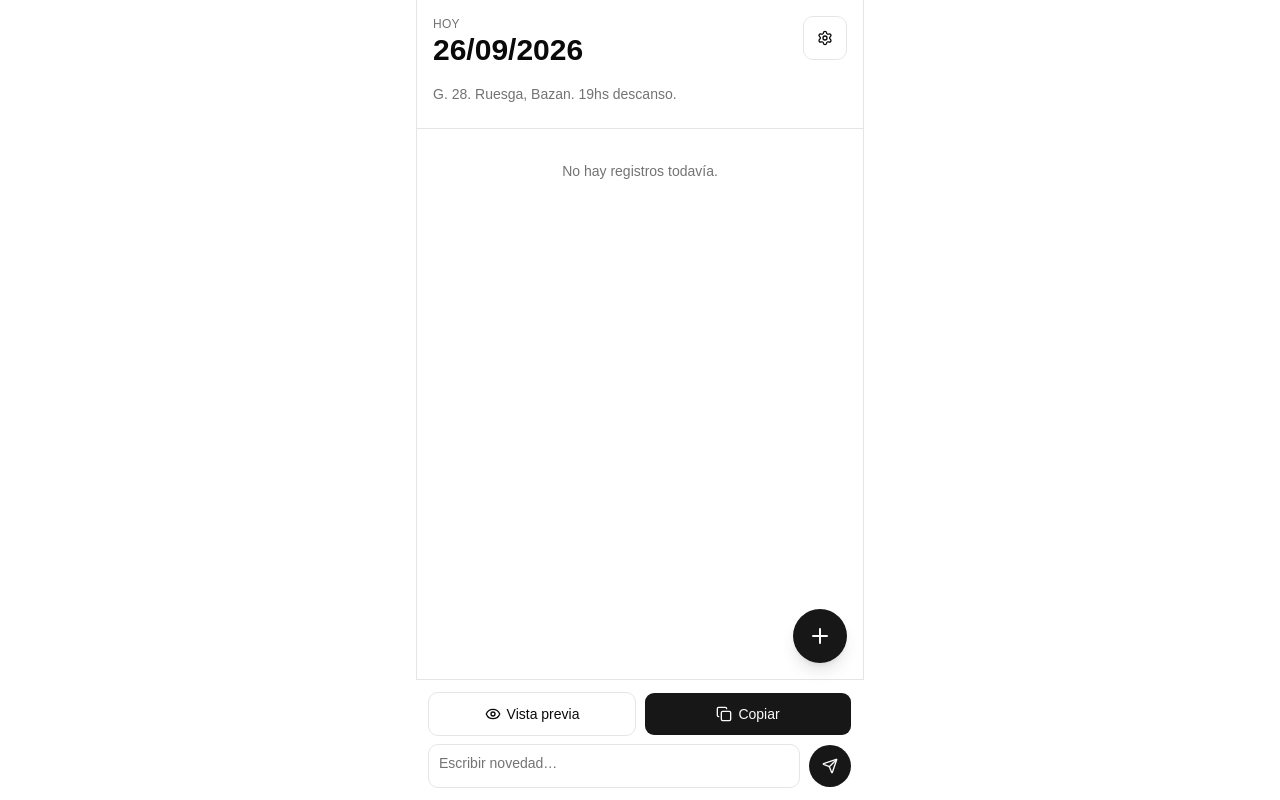
Test: App — Today screen › FAB -> LP -> fill fields -> Agregar shows the numbered row and updates the counters
The image size is (1280, 800).
Expected: the heading "26/09/2026" is shown, x1=433 y1=32 x2=583 y2=68
Click the button named "nuevo registro" at x=820, y=636, box x1=792 y1=608 x2=848 y2=664
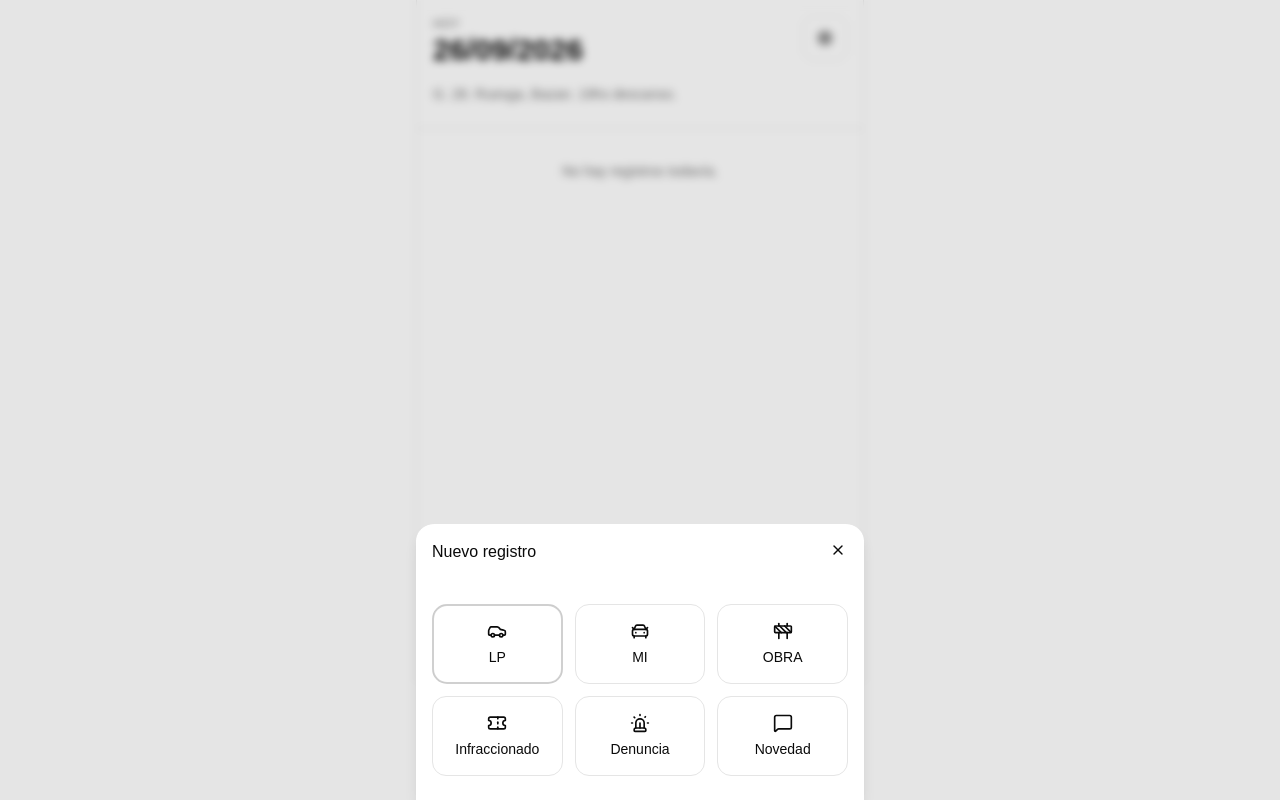
Click the button "LP" at x=497, y=644, box x1=432 y1=604 x2=563 y2=684
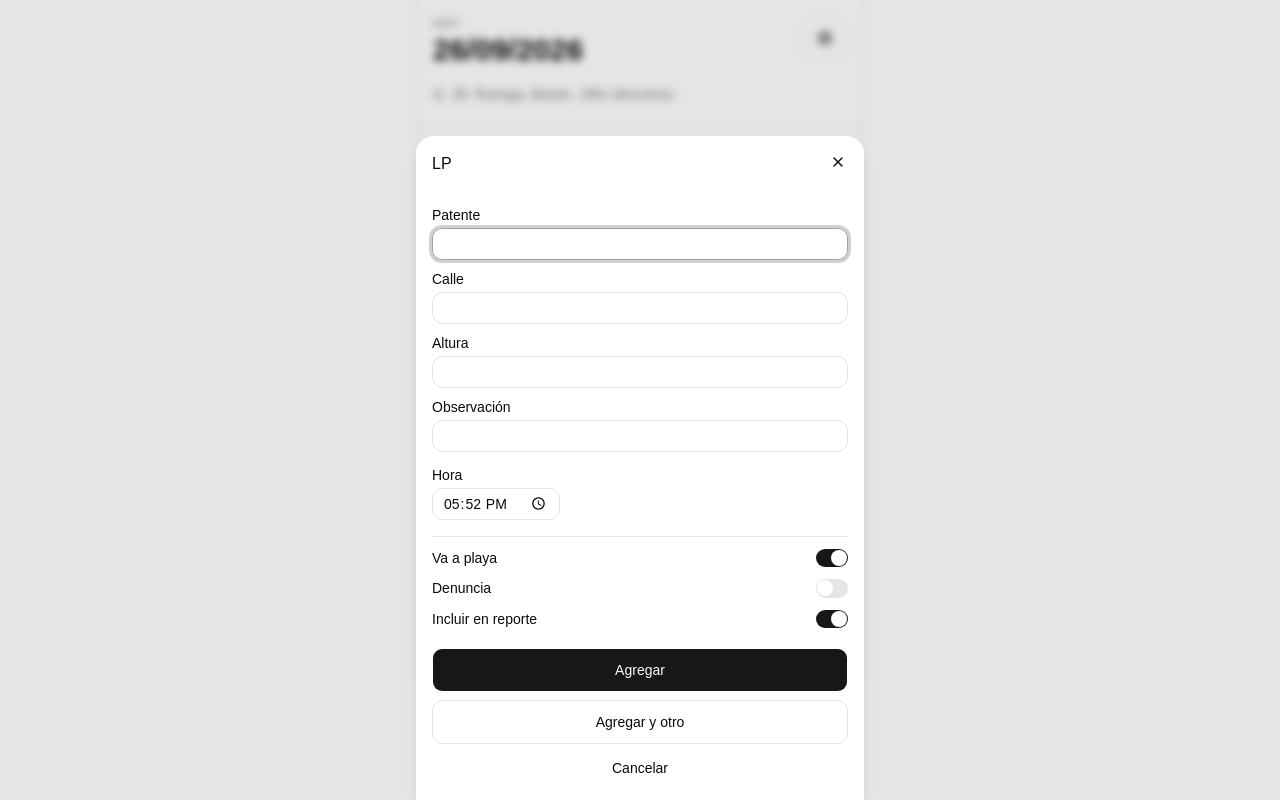
Type "ohm949" into the field labelled "Patente" at x=640, y=244, box x1=432 y1=228 x2=848 y2=260
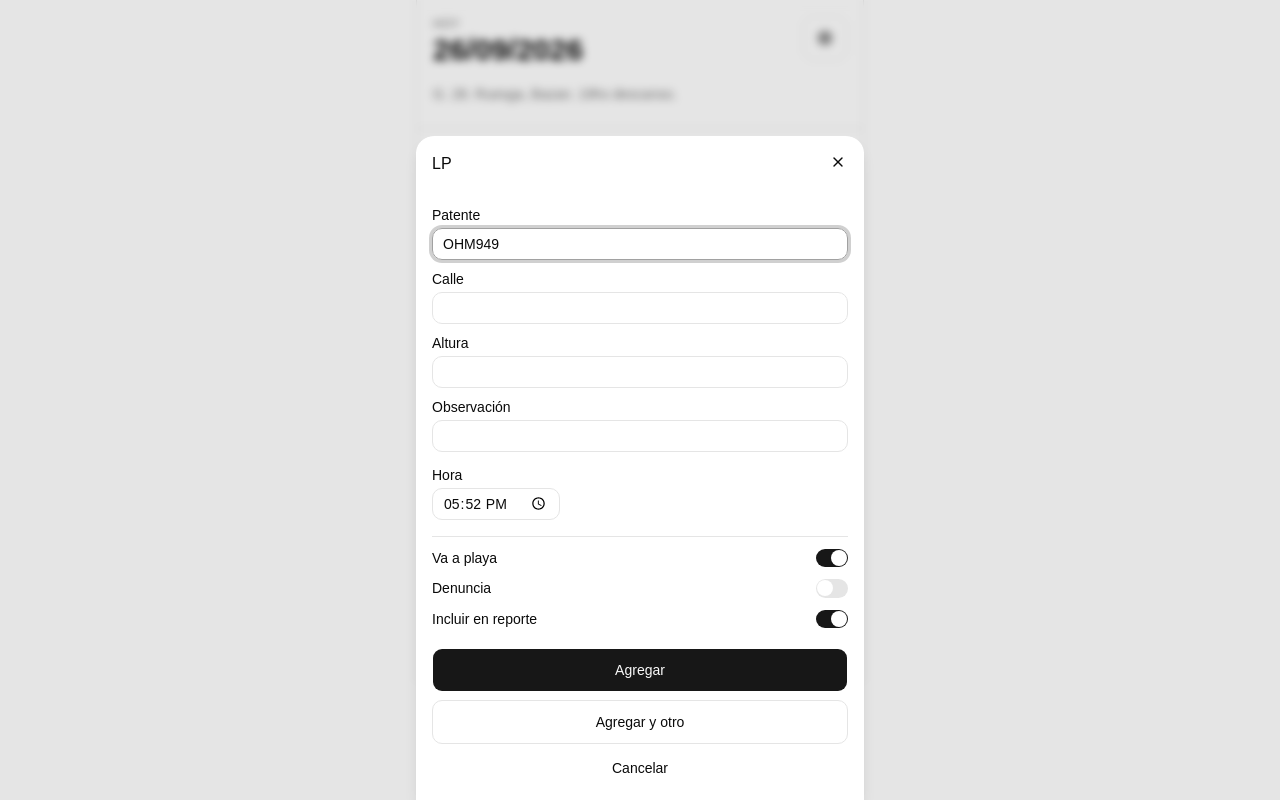
Type "Av Luis María Campos" into the field labelled "Calle" at x=640, y=308, box x1=432 y1=292 x2=848 y2=324
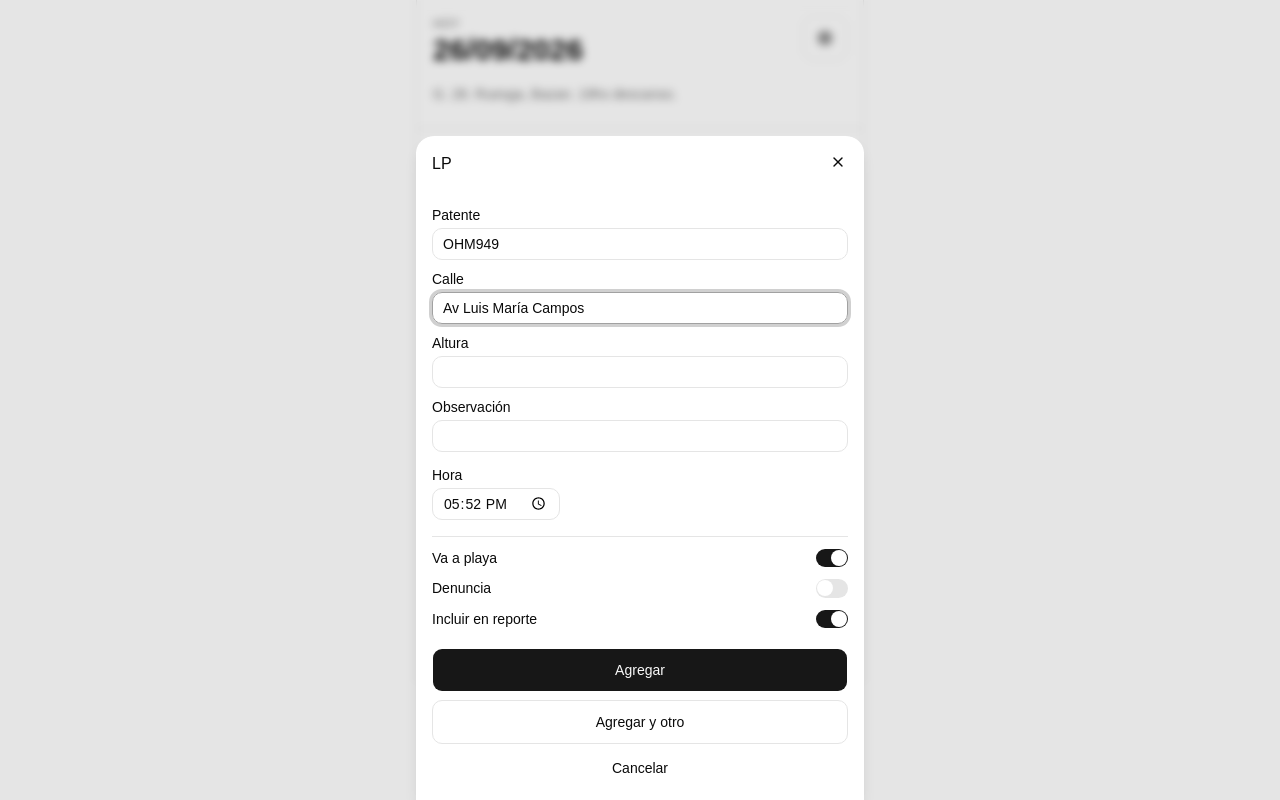
Type "1270" into the field labelled "Altura" at x=640, y=372, box x1=432 y1=356 x2=848 y2=388
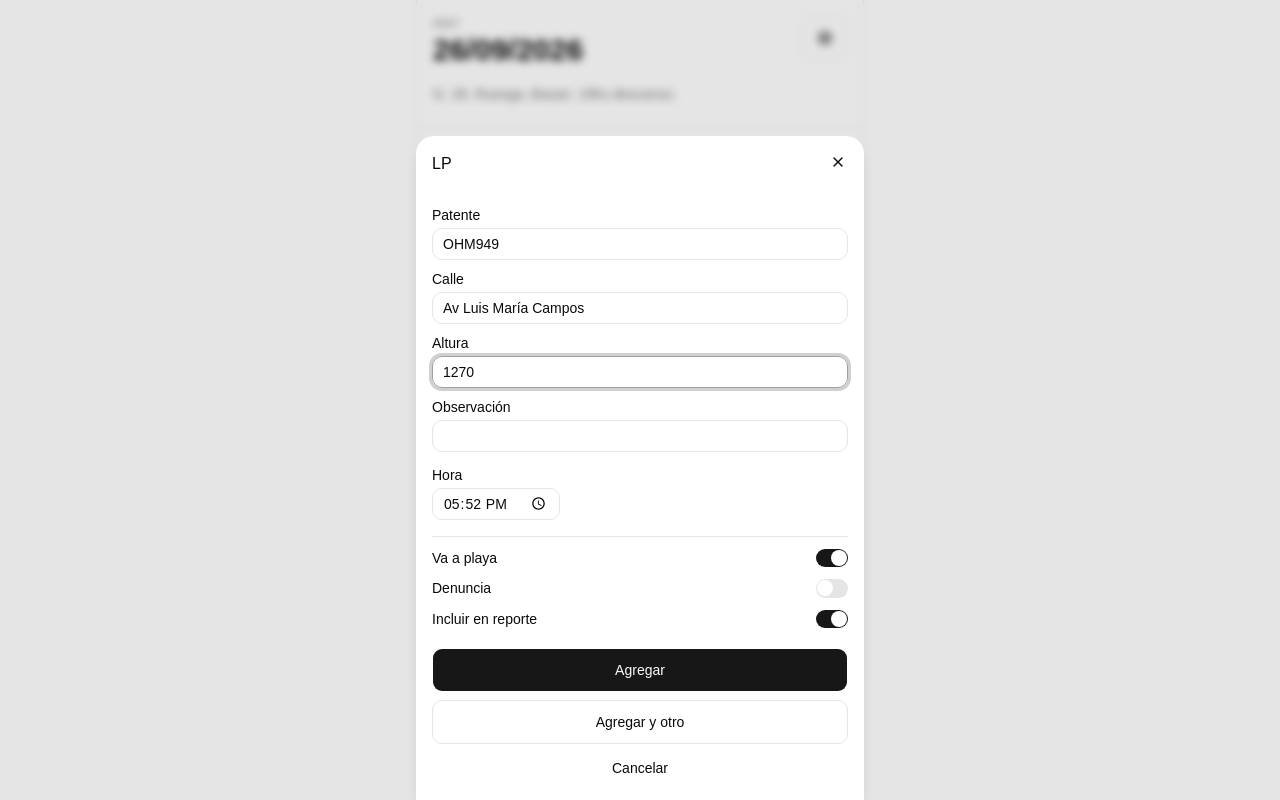
Click the button "Agregar" at x=640, y=670, box x1=432 y1=648 x2=848 y2=692
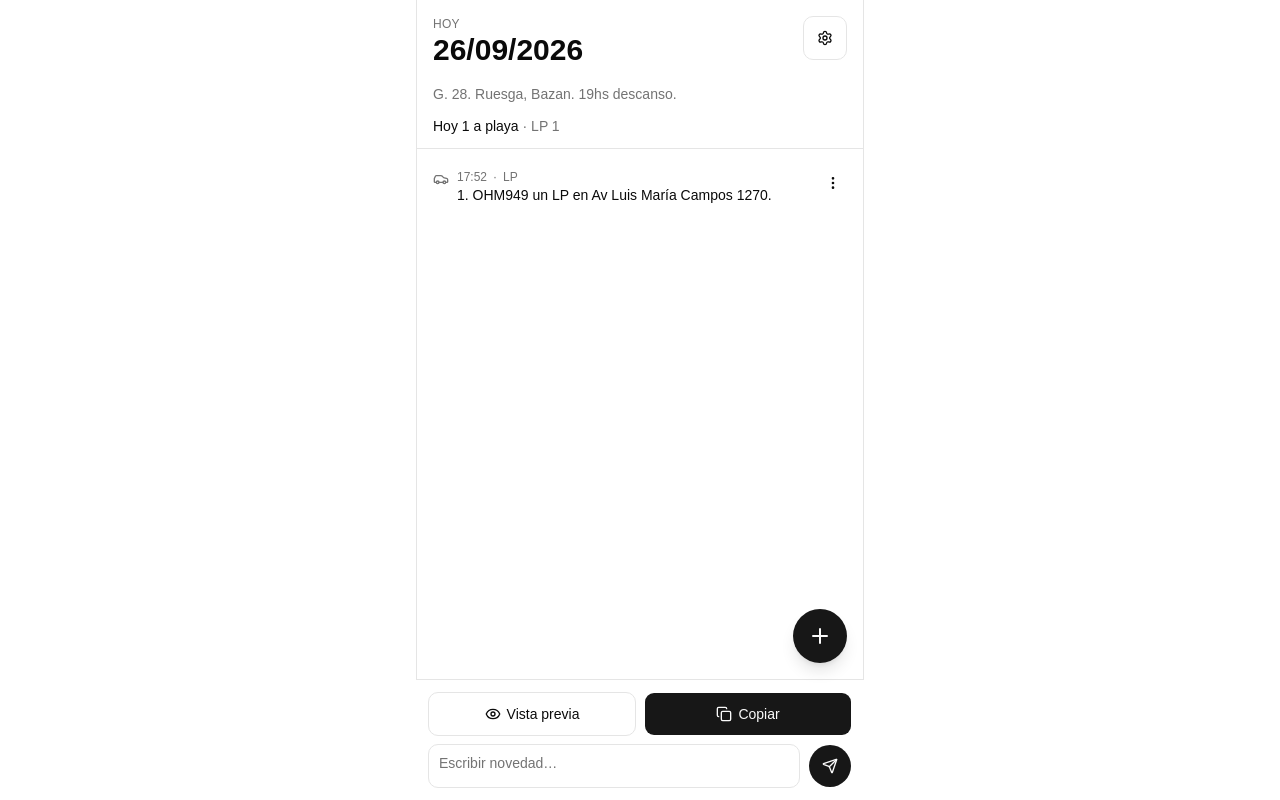
Expected: the text "1. OHM949 un LP en Av Luis María Campos 1270." is shown, x1=457 y1=185 x2=811 y2=205
Expected: the text "Hoy 1 a playa" is shown, x1=433 y1=118 x2=519 y2=134
